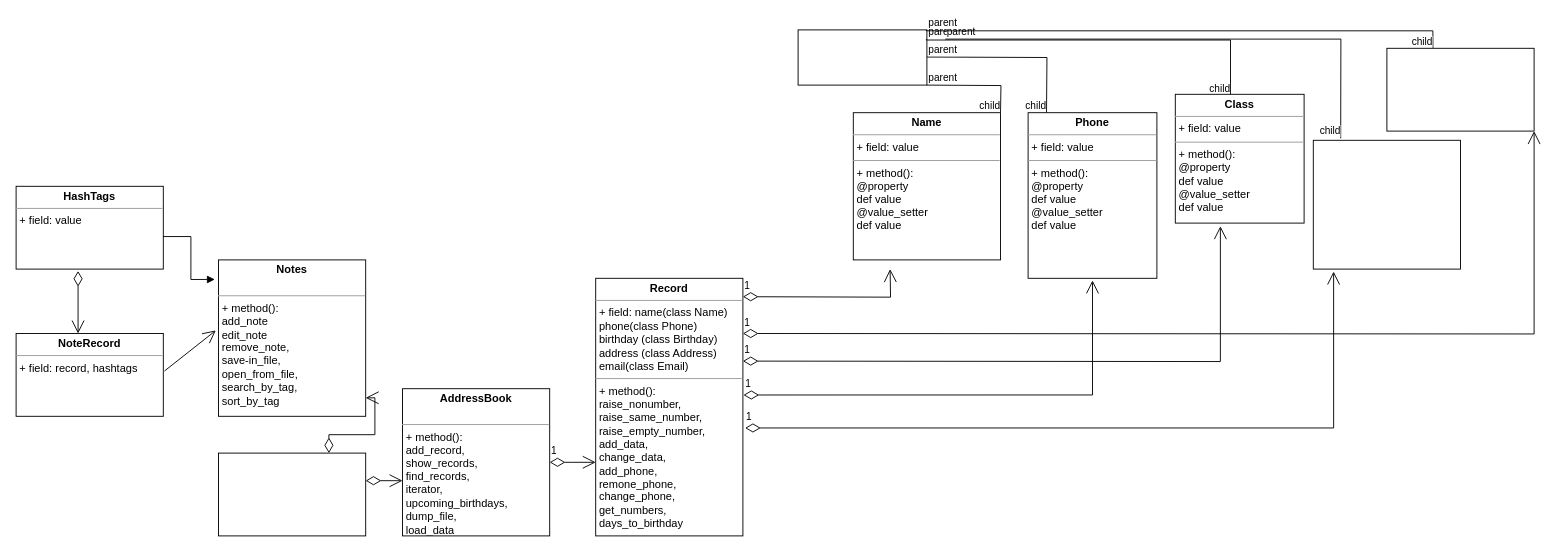
Image size: 1566x552. Some labels were removed from this diagram. The shapes that lost their labels are listed below. From the top down, each one's centre as x and y in pixels, then its label:
At [862,57]: "Field".
At [1460,89]: "Email + field: value + method(): @property def value @value_setter def value".
At [1386,204]: "Address + field: value + method(): @property def value @value_setter def value".
At [292,494]: "UserDict".
